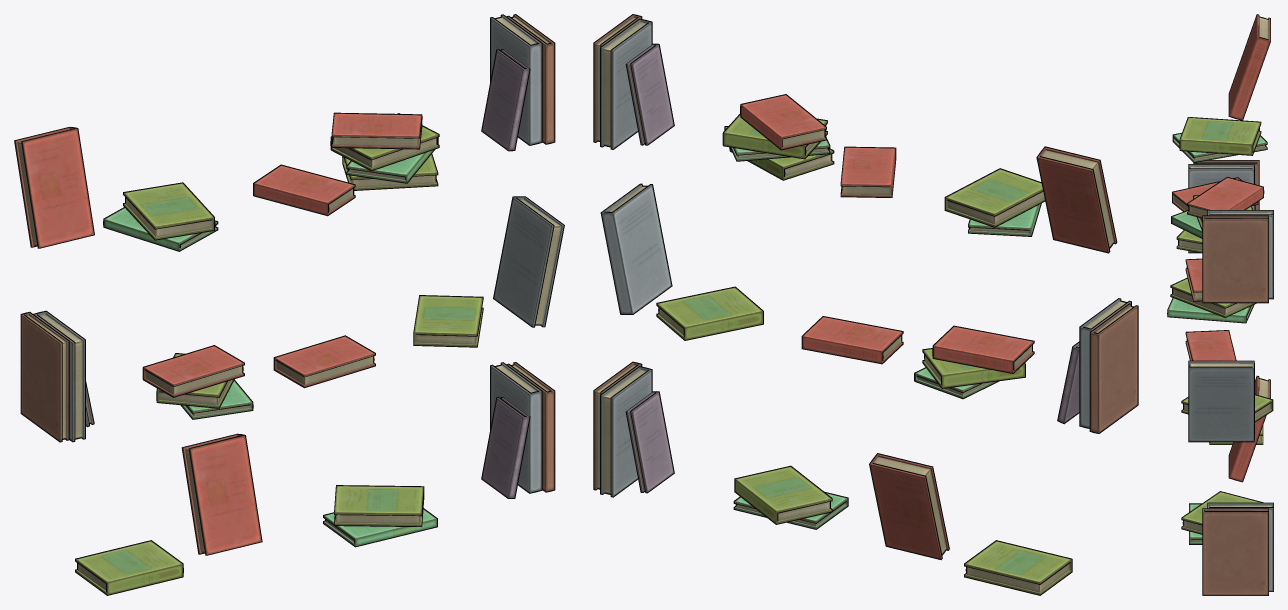
The model's file is BookshelfBooks.fbx.
The picture shows the model from 3 angles, left to right: view 1: azimuth 30°, elevation 25°; view 2: azimuth 150°, elevation 25°; view 3: azimuth 270°, elevation 25°; orthographic projection. The views are drawn at different scales.
Visible parts, largest first — view 1: Books; view 2: Books; view 3: Books.
Boxes of the visible parts, x1,y1,x2,y2 form: Books: (14, 14, 564, 595); Books: (593, 14, 1138, 595); Books: (1167, 14, 1273, 595).
Bounding box in the file's own units: 239 × 52.31 × 204.
